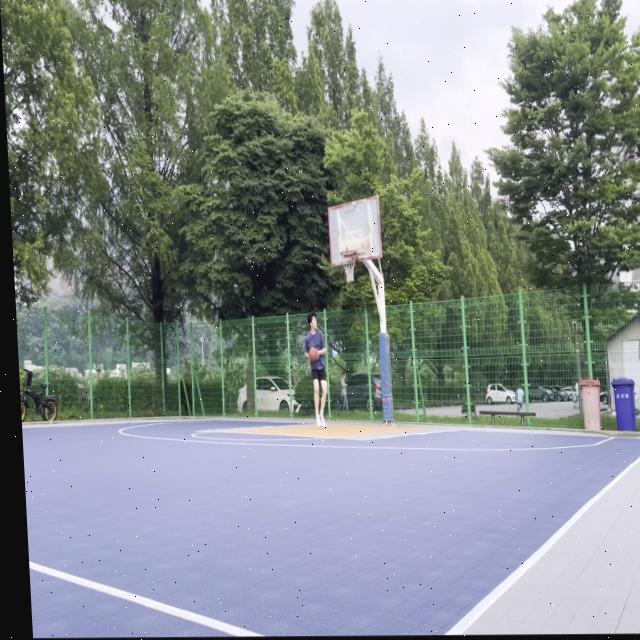basketball: (308, 346, 319, 363)
hoop: (340, 250, 358, 285)
